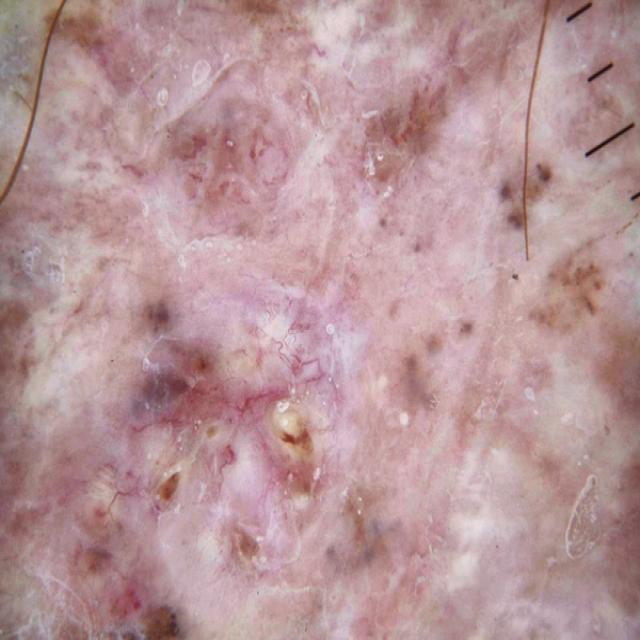Basal-Cell-Carcinoma-BCC-: (21, 28, 568, 594)
